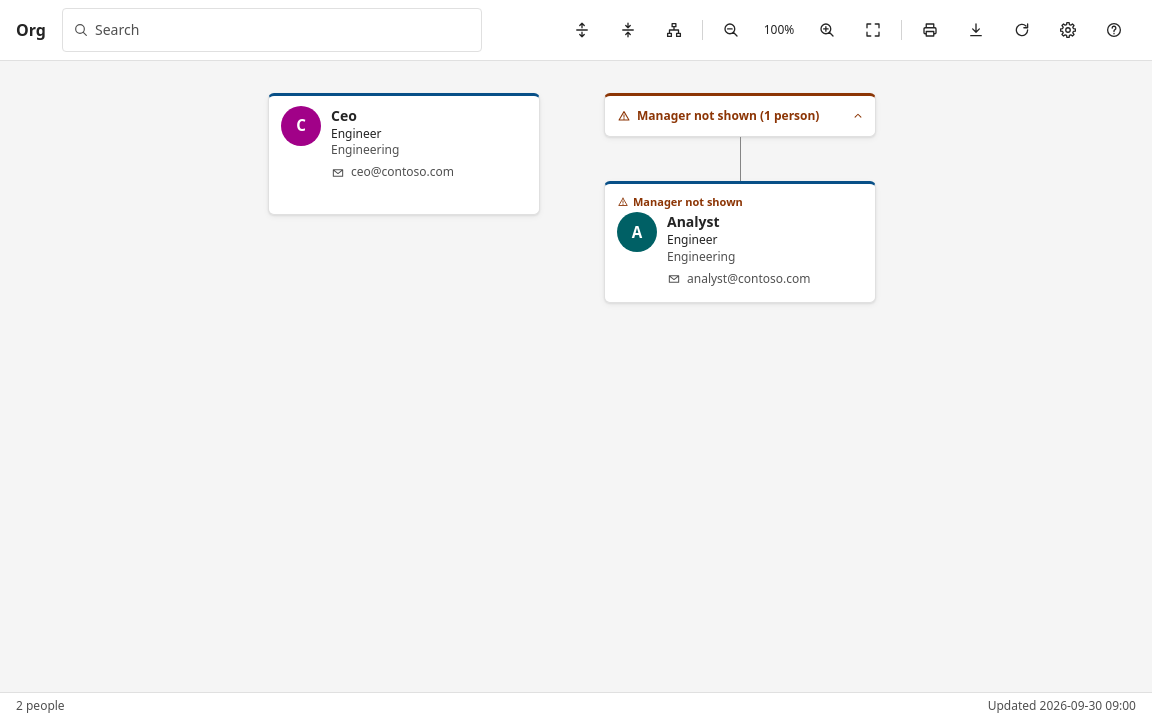
Test: OrgChartPage › explains in the details who the manager the chart leaves out is, asking with the chart's own options
Expected: the footer is shown, [0, 692, 1151, 719]
Expected: the footer does not show ""
Click the list item "Analyst" at (740, 242), box [604, 181, 876, 303]
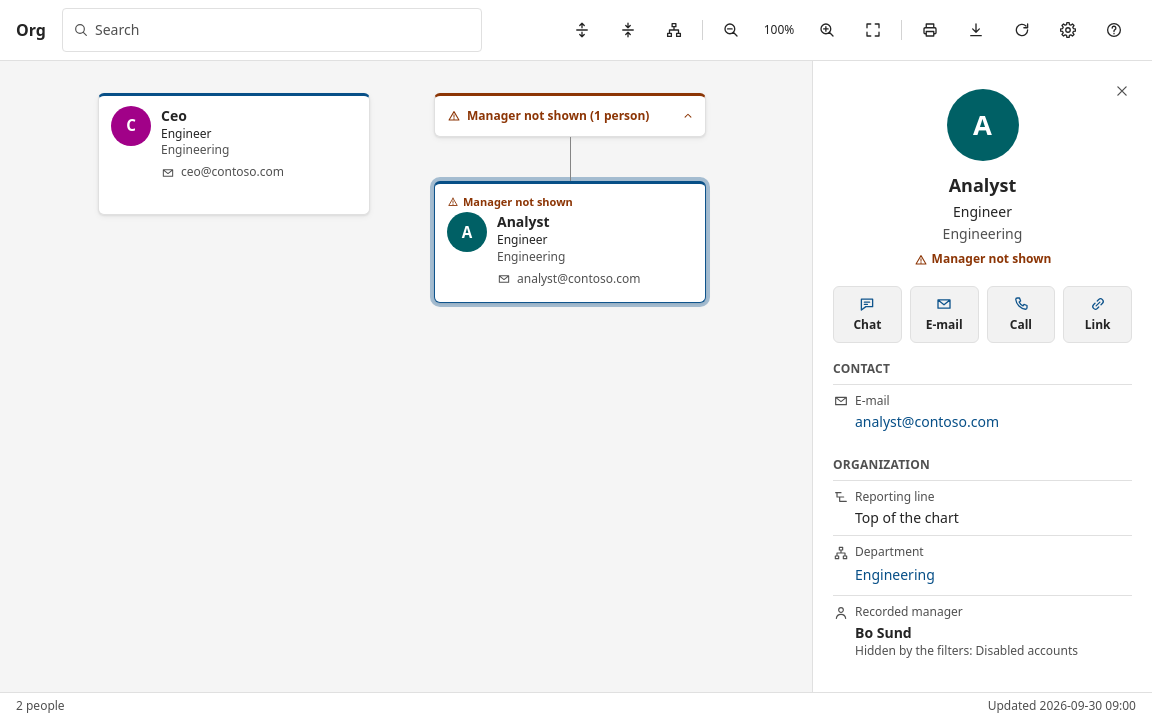
Expected: the text "Hidden by the filters: Disabled accounts" is shown, [855, 642, 1078, 658]
